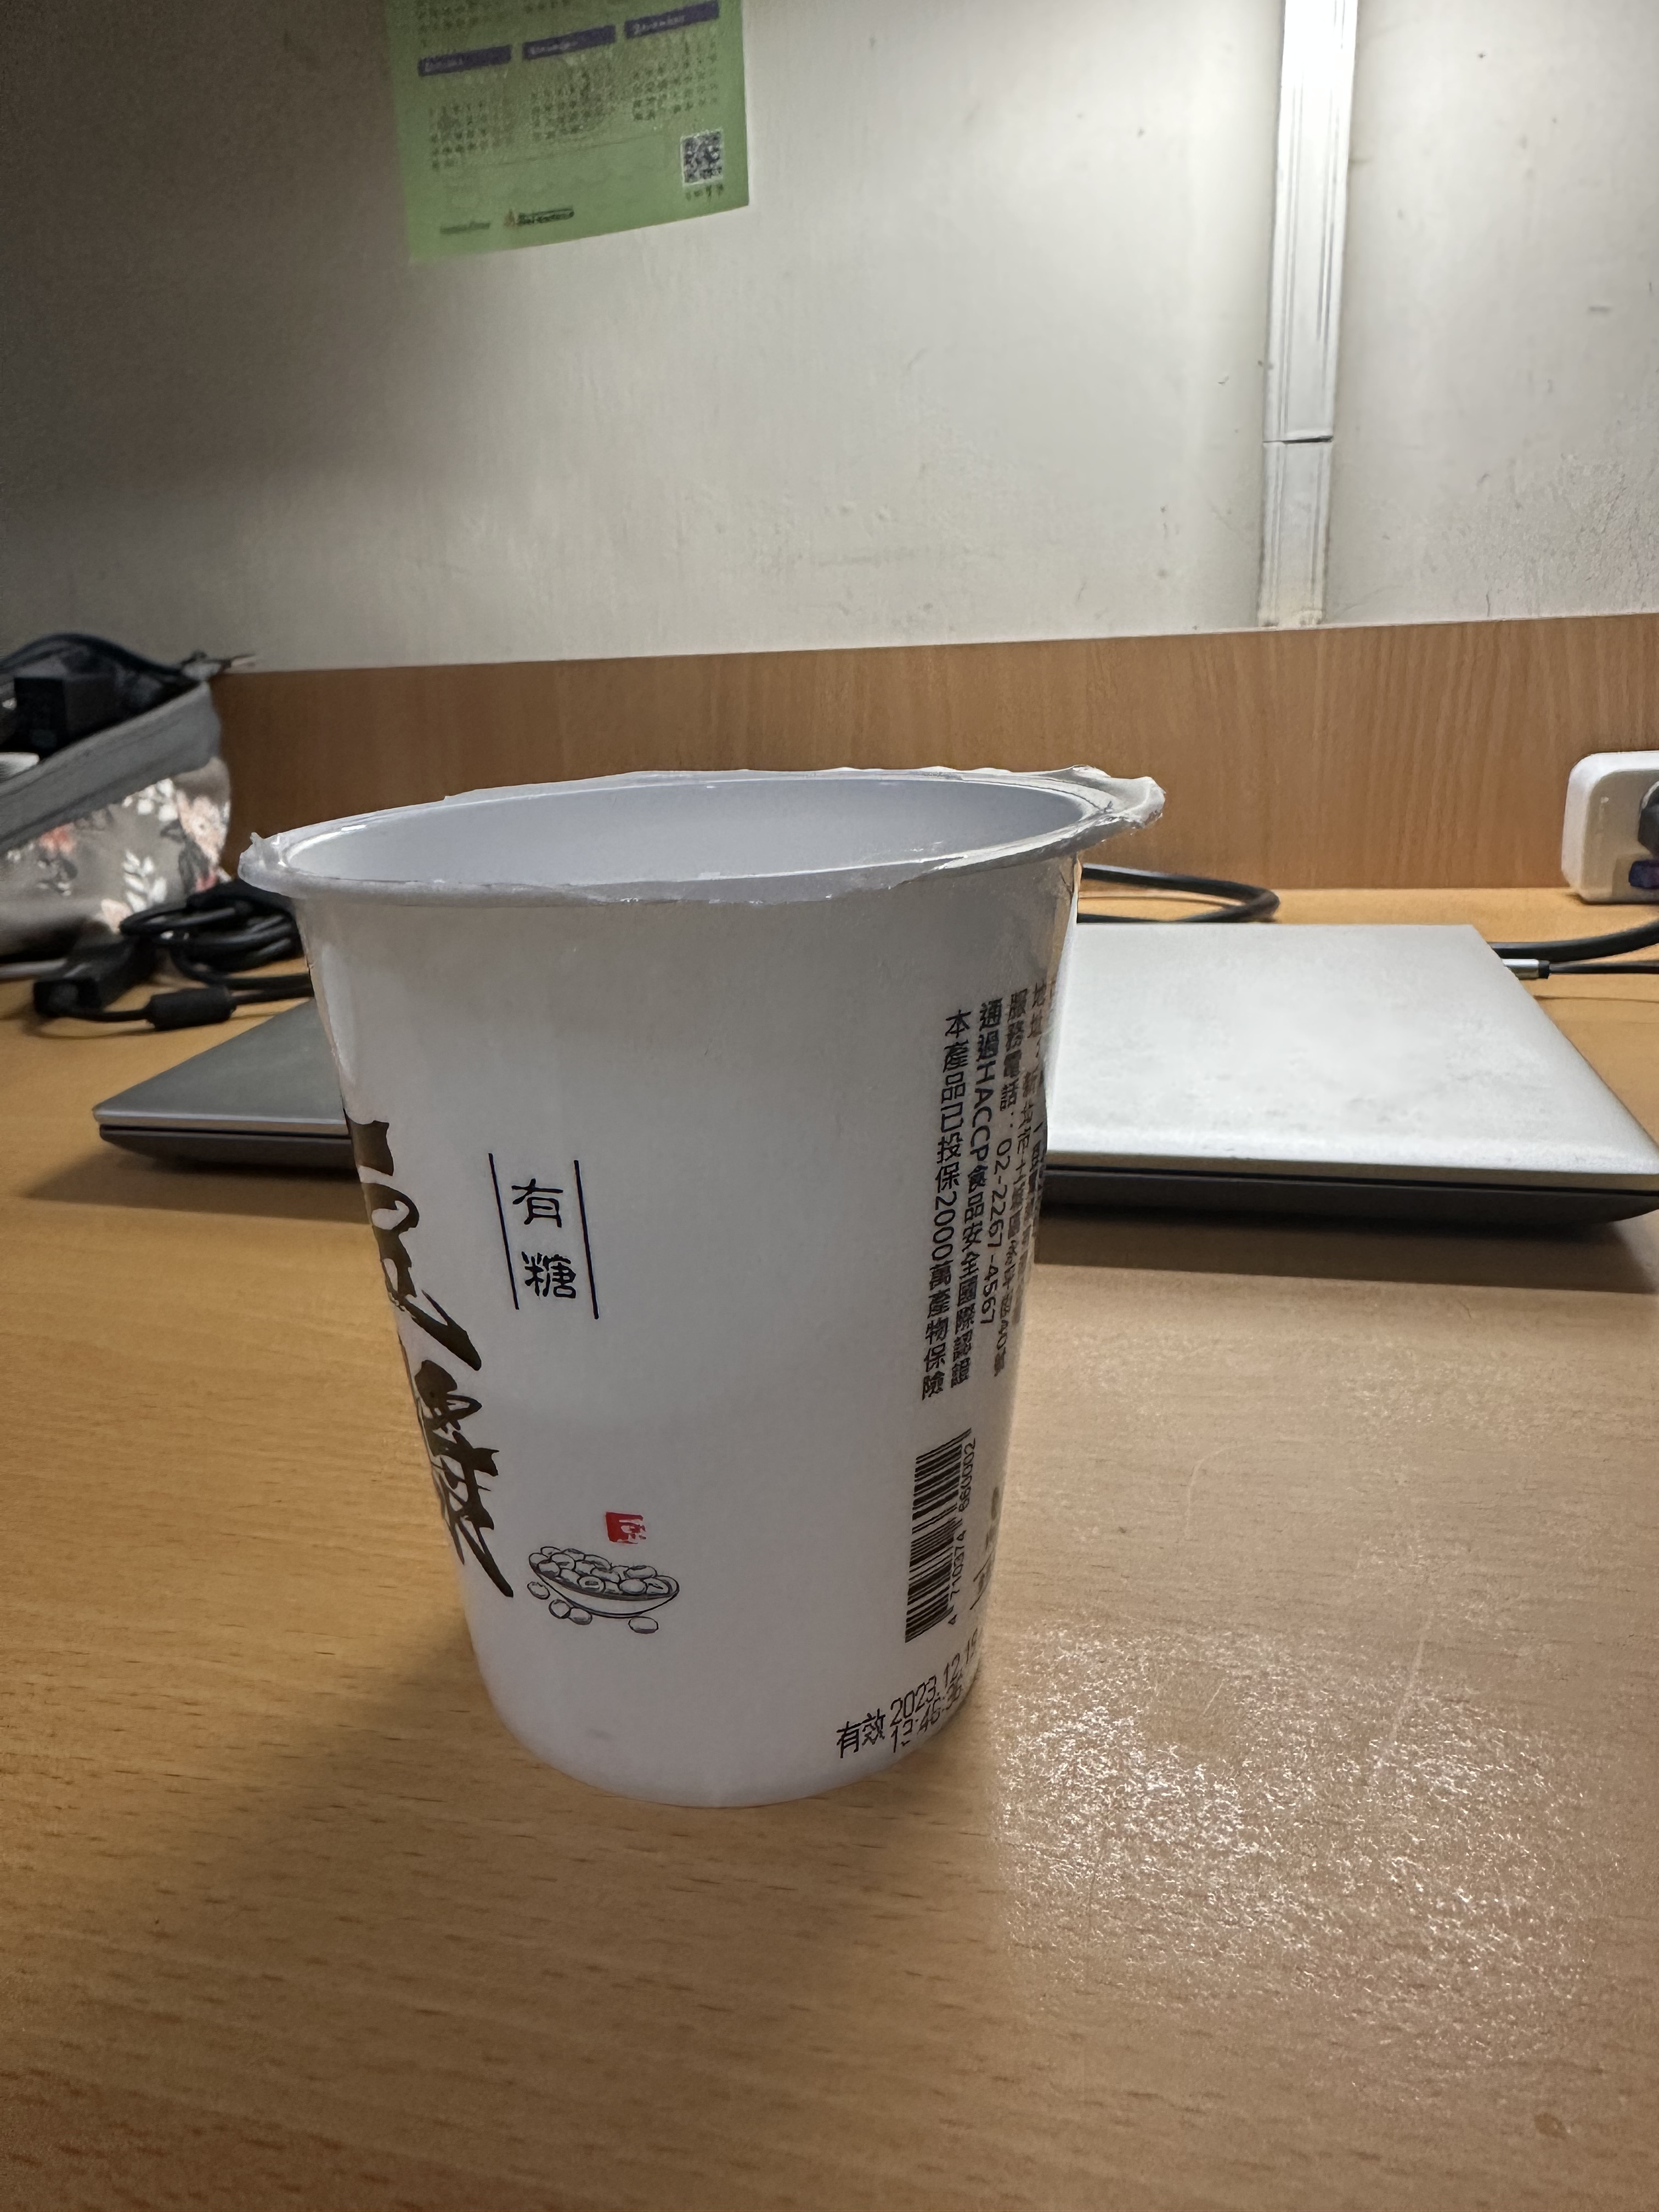cup: (239, 770, 1182, 1806)
